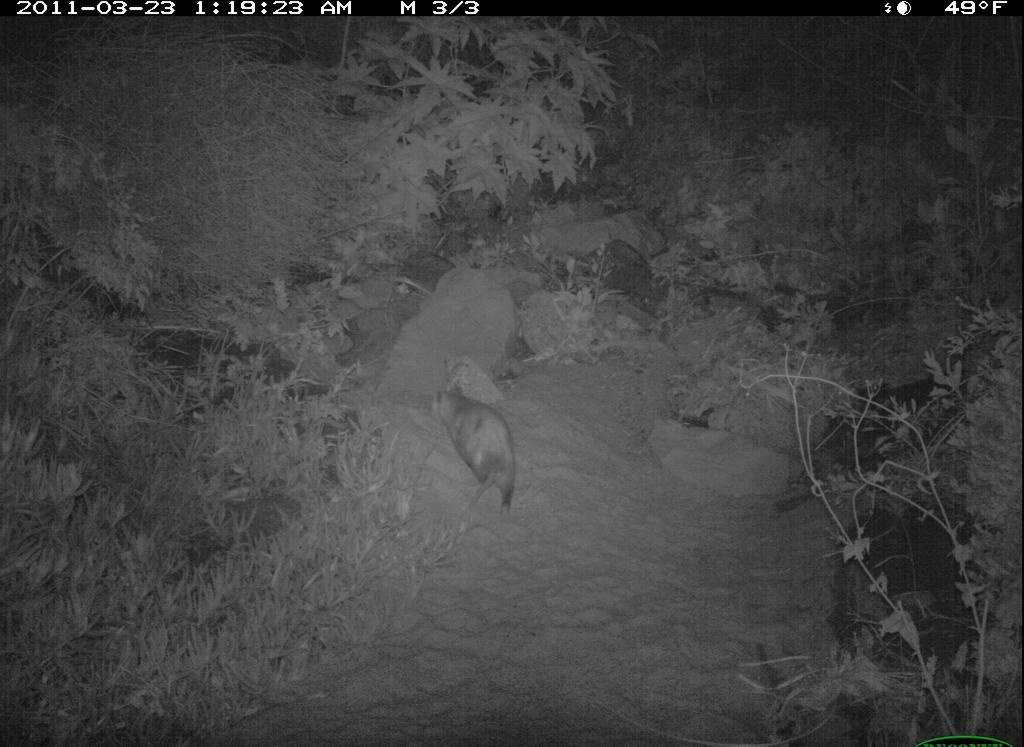opossum: (424, 354, 536, 531)
